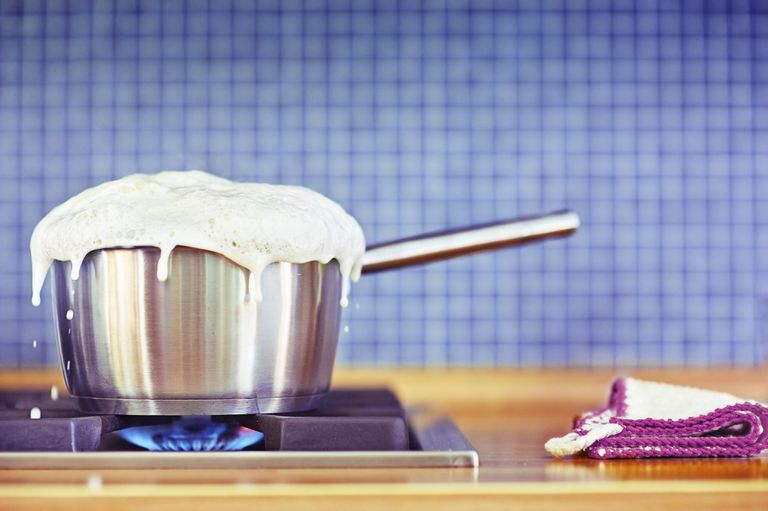Boiled: (16, 165, 422, 441)
